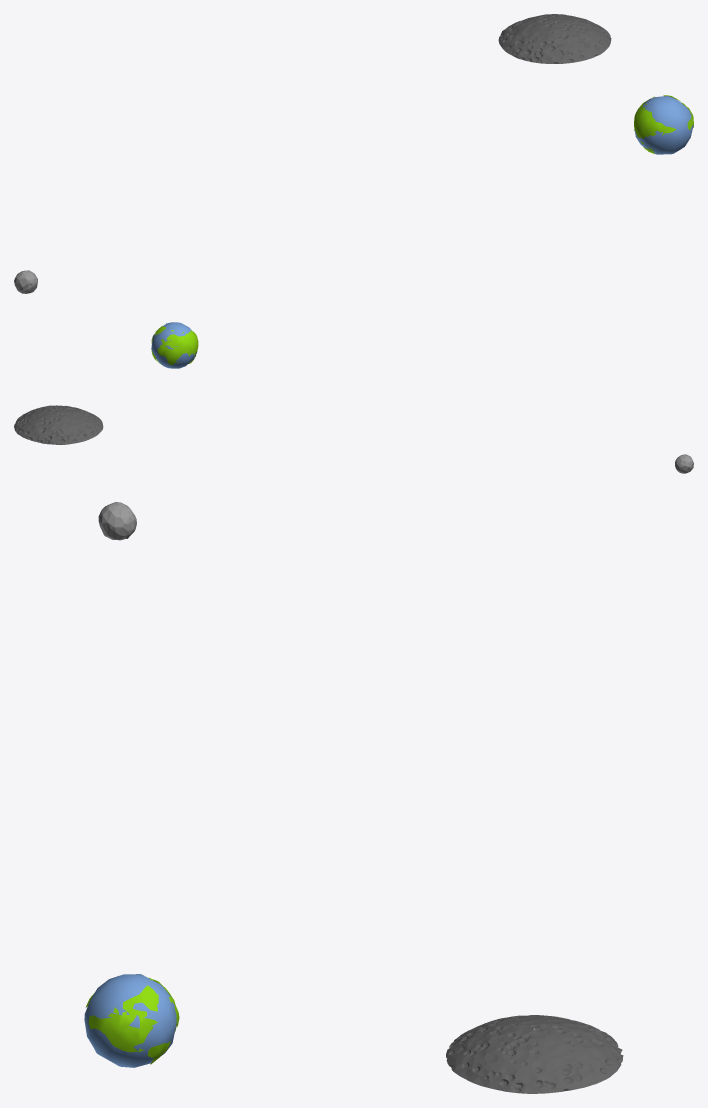
File: EarthFromMoon.FBX
The picture shows the model from 3 angles, top to bottom: view 1: azimuth 30°, elevation 25°; view 2: azimuth 150°, elevation 25°; view 3: azimuth 270°, elevation 25°; orthographic projection. The views are drawn at different scales.
Visible parts, largest first — view 1: Moon1, Earth, Sun; view 2: Moon1, Earth, Sun; view 3: Moon1, Earth, Sun.
Part boxes in pixels (x1,y1,x2,y2): Moon1: (498,14,611,63); Earth: (634,95,693,154); Sun: (14,270,37,293); Moon1: (14,405,103,444); Earth: (151,322,198,368); Sun: (675,454,693,473); Moon1: (446,1015,623,1093); Earth: (84,974,179,1067); Sun: (98,502,136,540).
Size of the model in its own units: 39246 by 2802 by 16125.
